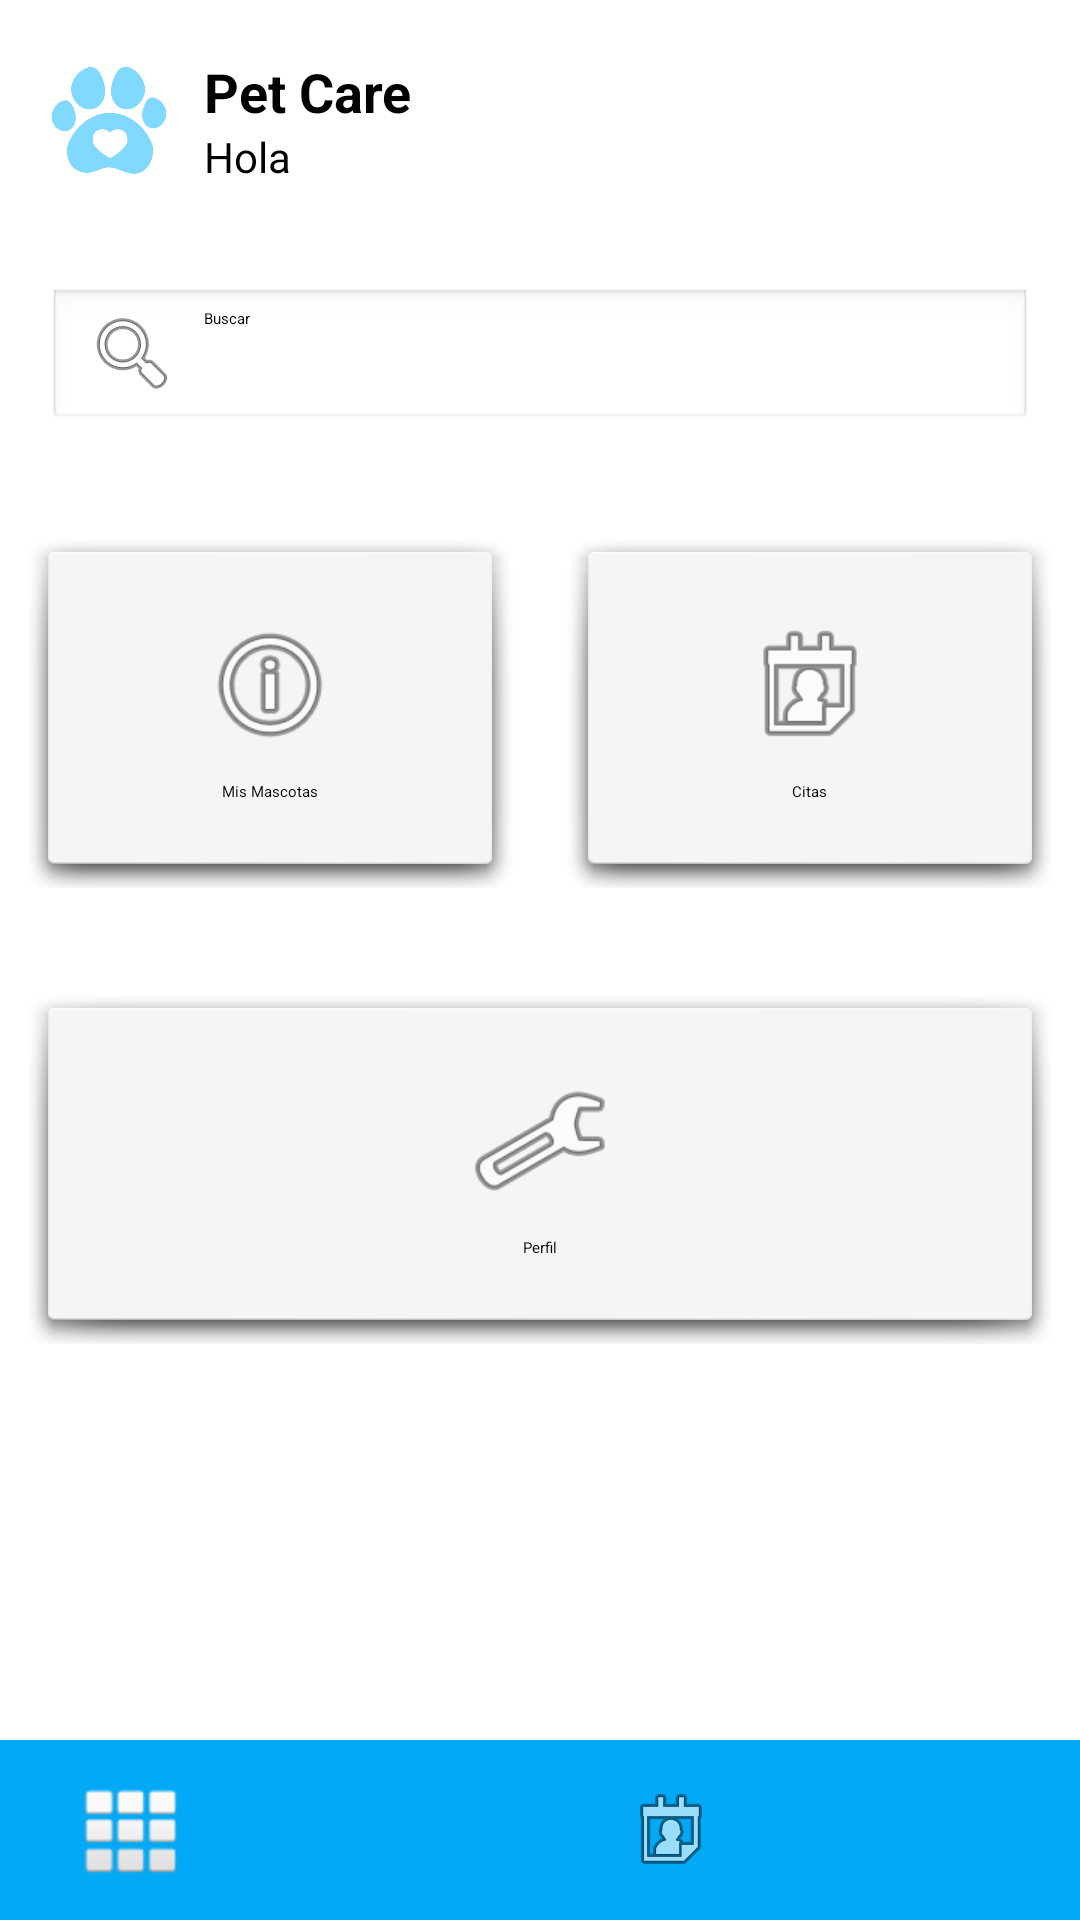

Icons on this 1080px×1920px Android screen, each with the point to tap as [x,y]:
calendar: [810,683]
info details: [270,685]
Inicio: [130,1831]
manage: [540,1141]
